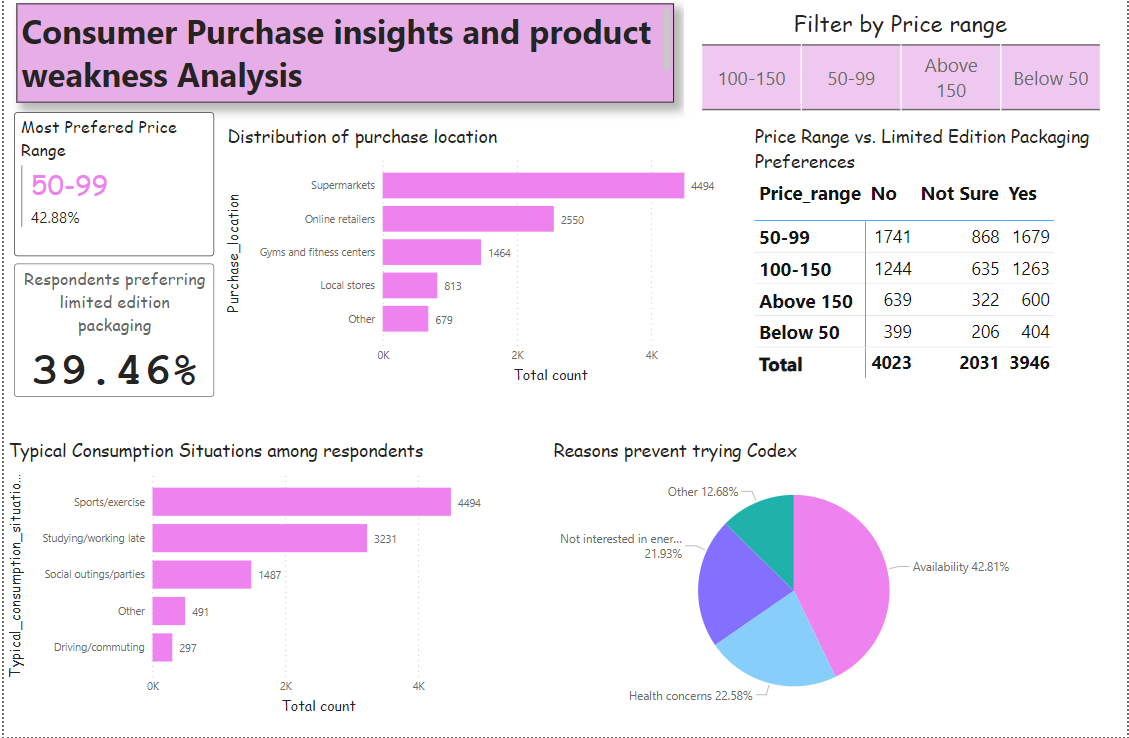

Layout of this report page (visuals, bound fields, positions):
{"tool":"powerbi","page":{"name":"Consumer Purchase insights","canvas":[1280,850],"ordinal":3},"visuals":[{"type":"textbox","box":[14.2,14.2,748.9,112.5],"z":0},{"type":"barChart","title":"Distribution of purchase location","fields":{"Y":["dim_cities.Total count"],"Category":["fact_survey_responses.Purchase_location"]},"box":[249.2,150.9,576.6,301.8],"z":1000},{"type":"barChart","title":"Typical Consumption Situations among respondents","fields":{"Category":["fact_survey_responses.Typical_consumption_situations"],"Y":["dim_cities.Total count"]},"box":[0,508.3,559.5,321.8],"z":2000},{"type":"pivotTable","title":"Price Range vs. Limited Edition Packaging Preferences","fields":{"Rows":["fact_survey_responses.Price_range"],"Values":["dim_cities.Total count"],"Columns":["fact_survey_responses.Limited_edition_packaging"]},"box":[850,150.9,417.2,301.8],"z":3000},{"type":"pieChart","title":"Reasons prevent trying Codex","fields":{"Category":["fact_survey_responses.AggregatedReason"],"Y":["dim_cities.Total count"]},"box":[620.8,508.3,558.1,321.8],"z":4000},{"type":"card","title":"Respondents preferring limited edition packaging","fields":{"Values":["dim_cities.LimitedEditionPreferencePercent"]},"box":[11.4,310.4,227.8,152.3],"z":5000},{"type":"multiRowCard","title":"Most Prefered Price Range","fields":{"Values":["dim_cities.MostPreferredPriceRange","dim_cities.MostPreferredPriceRangePercent"]},"box":[11.4,138.1,227.8,163.7],"z":6000},{"type":"slicer","title":"Filter by  Price range","fields":{"Values":["fact_survey_responses.Price_range"]},"box":[774.5,14.2,492.6,123.9],"z":7000}]}

Visuals, with their boxes in screenshot pixels (x1, y1, x2, y2), scaled from the page's 1280x850 canvas onto the 1129x738 screenshot:
textbox: box=[13, 12, 673, 110]
"Distribution of purchase location" barChart: box=[220, 131, 728, 393]
"Typical Consumption Situations among respondents" barChart: box=[0, 441, 493, 721]
"Price Range vs. Limited Edition Packaging Preferences" pivotTable: box=[750, 131, 1118, 393]
"Reasons prevent trying Codex" pieChart: box=[548, 441, 1040, 721]
"Respondents preferring limited edition packaging" card: box=[10, 270, 211, 402]
"Most Prefered Price Range" multiRowCard: box=[10, 120, 211, 262]
"Filter by  Price range" slicer: box=[683, 12, 1118, 120]
